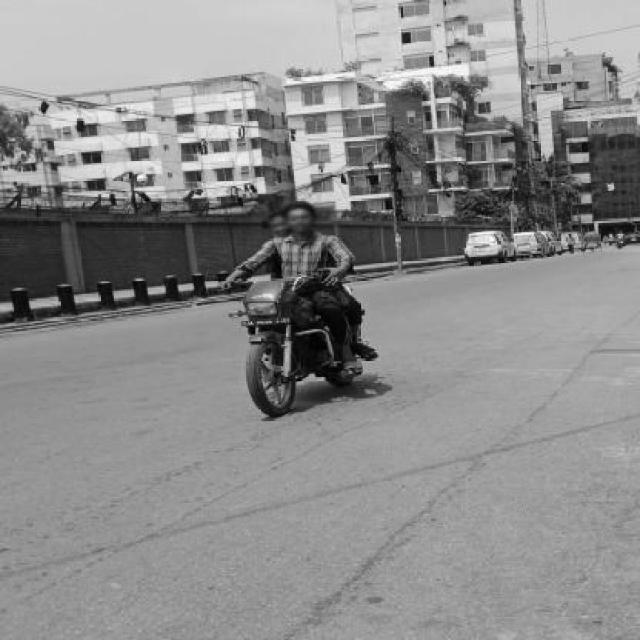Motorbike: (220, 200, 378, 418)
